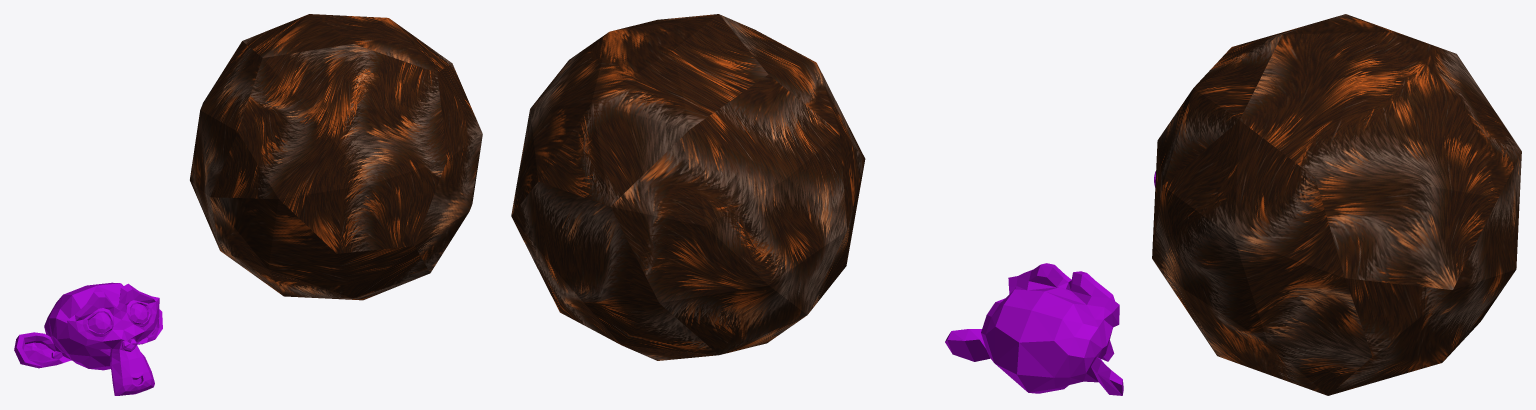
File: ball_02.dae
3 renders of one model, left to right at view 1: azimuth 30°, elevation 25°; view 2: azimuth 150°, elevation 25°; view 3: azimuth 270°, elevation 25°, orthographic. The views are drawn at different scales.
Parts seen in each view (by area): view 1: Icosphere, Suzanne; view 2: Icosphere, Suzanne; view 3: Icosphere.
Part boxes in pixels (left/top/right/bottom): Icosphere: left=190, top=14, right=482, bottom=300; Suzanne: left=14, top=282, right=162, bottom=395; Icosphere: left=511, top=14, right=865, bottom=360; Suzanne: left=945, top=263, right=1123, bottom=395; Icosphere: left=1152, top=14, right=1521, bottom=395.
Size of the model in its own units: 3.63 by 1.92 by 1.93.
